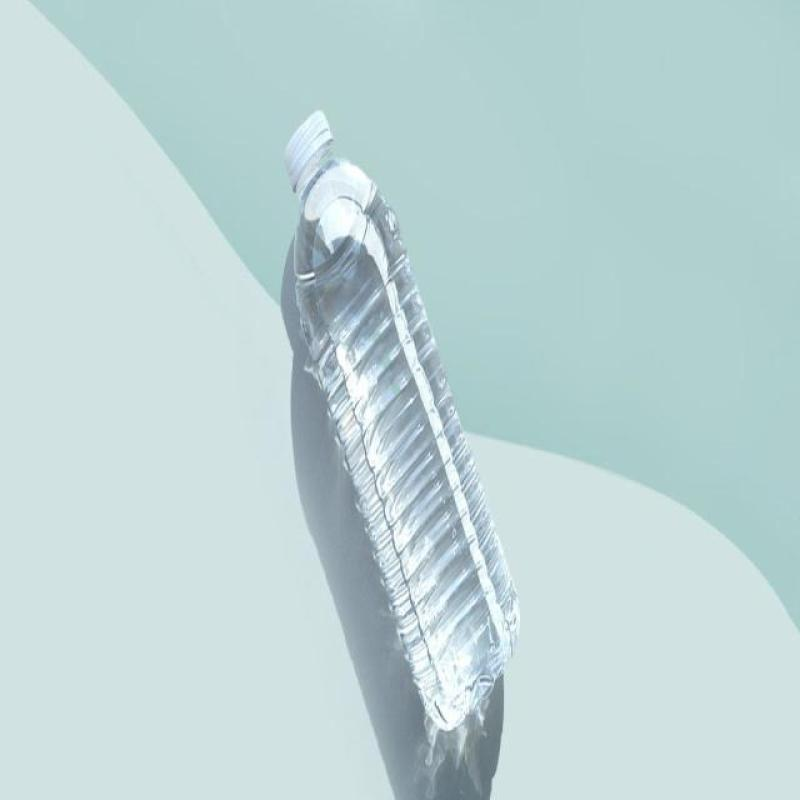botella: (282, 110, 522, 736)
